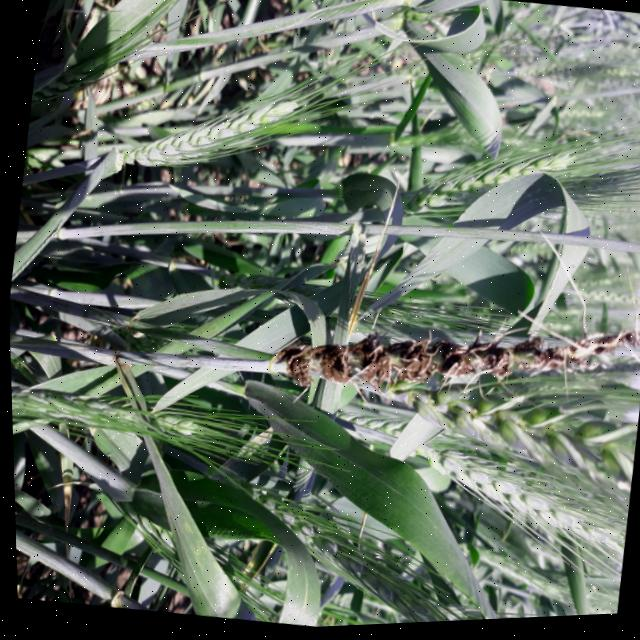healthy_wheat: (389, 71, 640, 296), (225, 0, 539, 174), (99, 41, 334, 211), (26, 0, 221, 136)
loose_charred: (209, 258, 640, 475)
